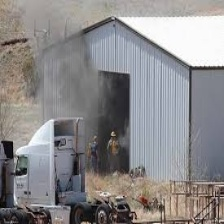smoke: (27, 2, 106, 132)
